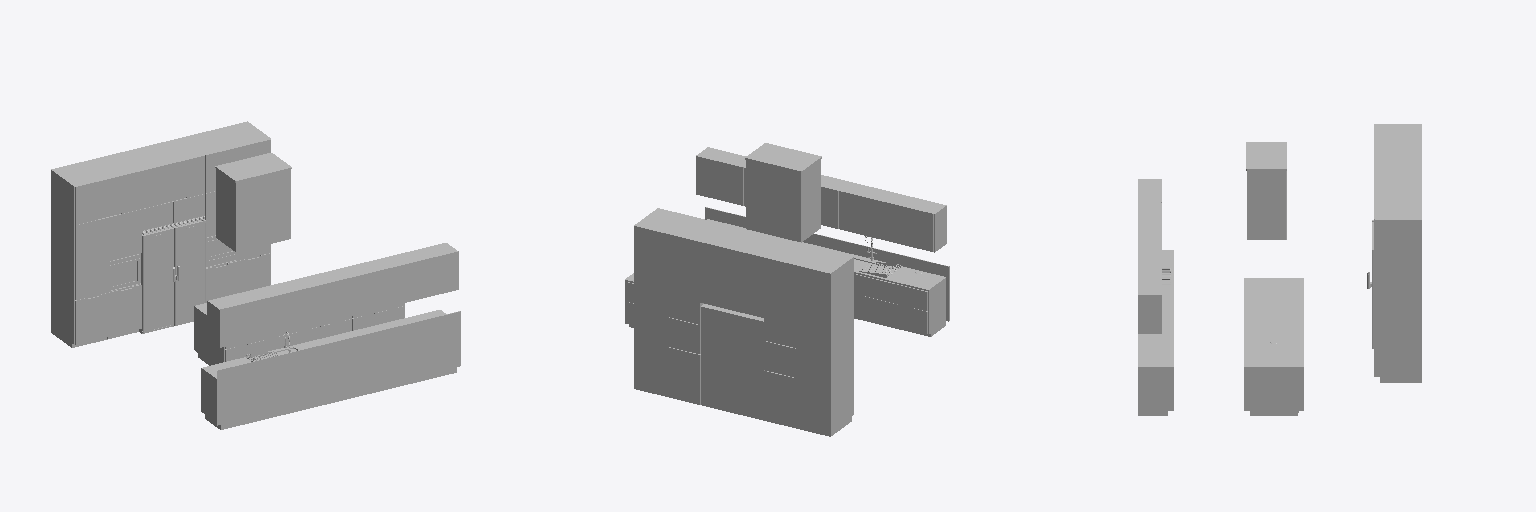
File: Cocina SILVER pro.obj
3 renders of one model, left to right at view 1: azimuth 30°, elevation 25°; view 2: azimuth 150°, elevation 25°; view 3: azimuth 270°, elevation 25°, orthographic.
Parts seen in each view (by area): view 1: Mesh1 Group2 Group1 Model, Mesh66 Group77 Group58 Model, Mesh298 Group149 Group148 Model, Mesh14 Group16 Group15 Model, Mesh67 Group78 Group58 Model, Mesh26 Group30 Group28 Group15 Model, Mesh47 Group52 hela_puerta2 Heladera_120_180_1 Group15 Model, Mesh40 Group45 hela_puerta1 Heladera_120_180_1 Group15 Model, Mesh27 Group31 Group28 Group15 Model, Mesh28 Group32 Group15 Model, Mesh24 Group27 Group15 Model, Mesh63 Group73 Group58 Model (+13 smaller); view 2: Mesh14 Group16 Group15 Model, Mesh26 Group30 Group28 Group15 Model, Mesh38 Group43 Heladera_120_180_1 Group15 Model, Mesh298 Group149 Group148 Model, Mesh21 Group24 Group22 Group15 Model, Mesh67 Group78 Group58 Model, Mesh5 Group6 Group1 Model, Mesh2 Group3 Group1 Model, Mesh8 Group9 Group1 Model, Mesh1 Group2 Group1 Model, Mesh31 Group36 Group33 Group15 Model, Mesh18 Group21 Group17 Group15 Model (+11 smaller); view 3: Mesh14 Group16 Group15 Model, Mesh21 Group24 Group22 Group15 Model, Mesh293 Group143 Group101 Model, Mesh298 Group149 Group148 Model, Mesh1 Group2 Group1 Model, Mesh267 Group106 Group101 Model, Mesh63 Group73 Group58 Model, Mesh60 Group69 Group58 Model, Mesh6 Group7 Group1 Model, Mesh297 Group147 Cocina_encimera_electrica_1_1 Group101 Model.
Part boxes in pixels (x1,y1,x2,y2): Mesh1 Group2 Group1 Model: (210, 243, 456, 347); Mesh66 Group77 Group58 Model: (205, 328, 456, 429); Mesh298 Group149 Group148 Model: (216, 153, 290, 251); Mesh14 Group16 Group15 Model: (51, 121, 270, 224); Mesh67 Group78 Group58 Model: (217, 311, 460, 425); Mesh26 Group30 Group28 Group15 Model: (51, 208, 107, 347); Mesh47 Group52 hela_puerta2 Heladera_120_180_1 Group15 Model: (142, 230, 173, 331); Mesh40 Group45 hela_puerta1 Heladera_120_180_1 Group15 Model: (174, 223, 205, 323); Mesh27 Group31 Group28 Group15 Model: (75, 217, 109, 299); Mesh28 Group32 Group15 Model: (75, 171, 141, 224); Mesh24 Group27 Group15 Model: (141, 155, 204, 208); Mesh63 Group73 Group58 Model: (201, 310, 457, 383); Mesh14 Group16 Group15 Model: (634, 208, 853, 311); Mesh26 Group30 Group28 Group15 Model: (796, 296, 853, 436); Mesh38 Group43 Heladera_120_180_1 Group15 Model: (701, 304, 764, 420); Mesh298 Group149 Group148 Model: (746, 143, 820, 242); Mesh21 Group24 Group22 Group15 Model: (634, 264, 668, 396); Mesh67 Group78 Group58 Model: (705, 207, 949, 321); Mesh5 Group6 Group1 Model: (886, 202, 933, 251); Mesh2 Group3 Group1 Model: (839, 190, 885, 240); Mesh8 Group9 Group1 Model: (697, 156, 743, 205); Mesh1 Group2 Group1 Model: (698, 147, 944, 212); Mesh31 Group36 Group33 Group15 Model: (669, 347, 700, 404); Mesh18 Group21 Group17 Group15 Model: (764, 371, 795, 427); Mesh14 Group16 Group15 Model: (1375, 124, 1421, 257); Mesh21 Group24 Group22 Group15 Model: (1375, 258, 1421, 382); Mesh293 Group143 Group101 Model: (1244, 278, 1303, 367); Mesh298 Group149 Group148 Model: (1247, 142, 1286, 239); Mesh1 Group2 Group1 Model: (1138, 179, 1160, 294); Mesh267 Group106 Group101 Model: (1244, 368, 1303, 410); Mesh63 Group73 Group58 Model: (1138, 250, 1173, 367); Mesh60 Group69 Group58 Model: (1138, 368, 1173, 410); Mesh6 Group7 Group1 Model: (1138, 295, 1161, 333); Mesh297 Group147 Cocina_encimera_electrica_1_1 Group101 Model: (1250, 287, 1283, 308).
Bounding box in the file's own units: 5.1 × 3.5 × 4.7.